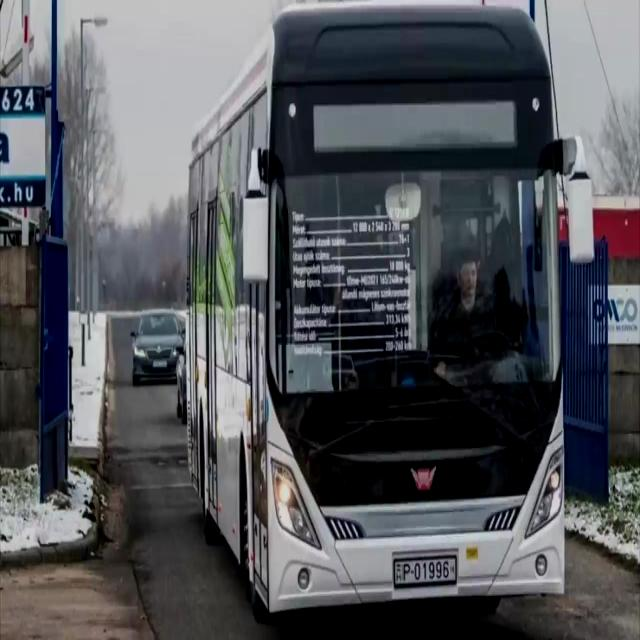bus: (183, 5, 596, 625)
